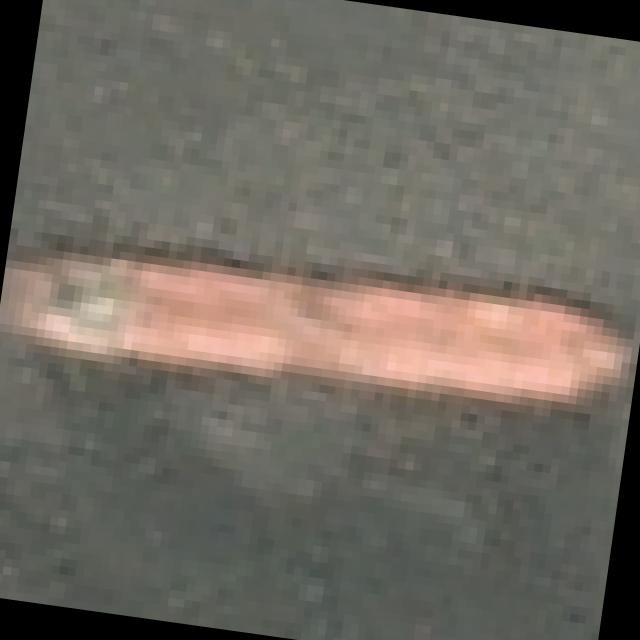ship: (0, 188, 640, 502)
